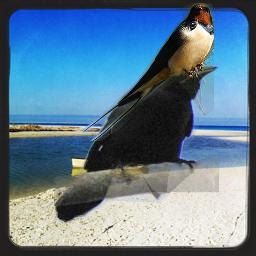Crow: (54, 61, 219, 223)
Swallow: (83, 3, 214, 141)
